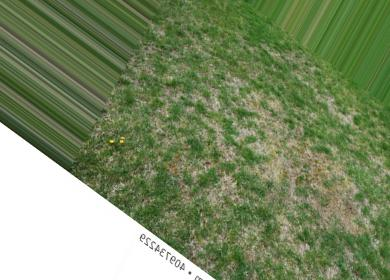patch: (243, 102, 294, 146), (262, 157, 303, 193), (323, 188, 353, 225)
